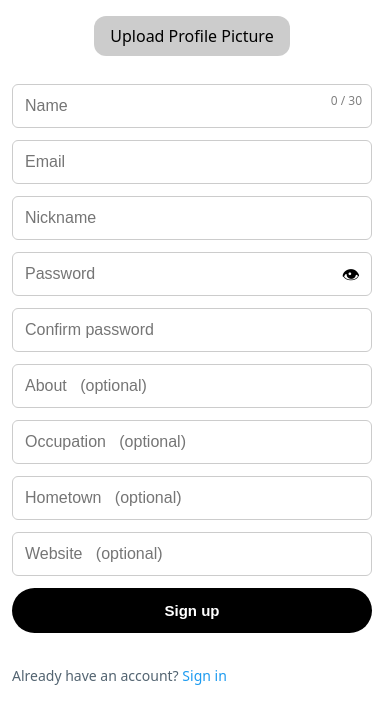
Test: RegisterForm › shows error if required fields is missing
Click the button "Sign up" at (192, 610), box left=12, top=588, right=372, bottom=633
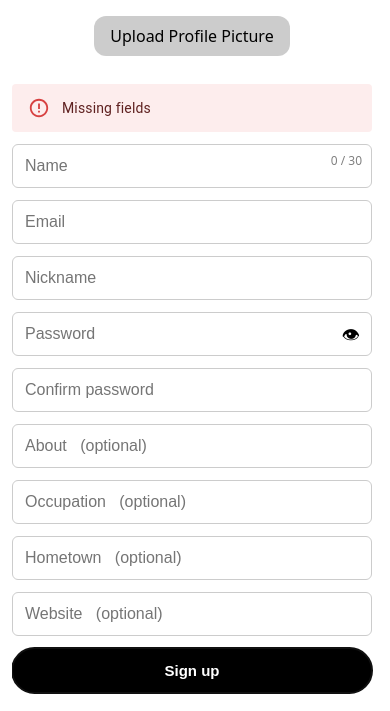
Result: the text "Missing fields" is shown at left=62, top=100, right=151, bottom=116
